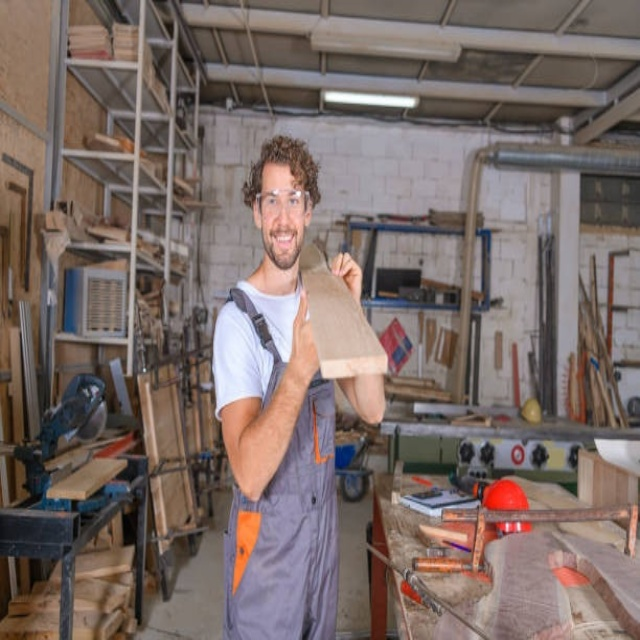Gafas: (255, 188, 310, 215)
Sin_guantes: (292, 290, 321, 381), (332, 249, 365, 296)
Sin_mascara: (268, 224, 297, 260)
